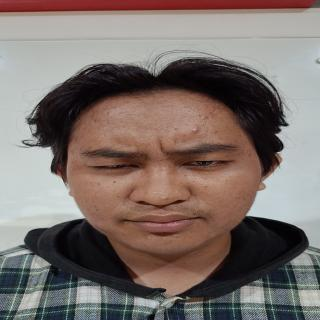Marah: (63, 86, 263, 258)
